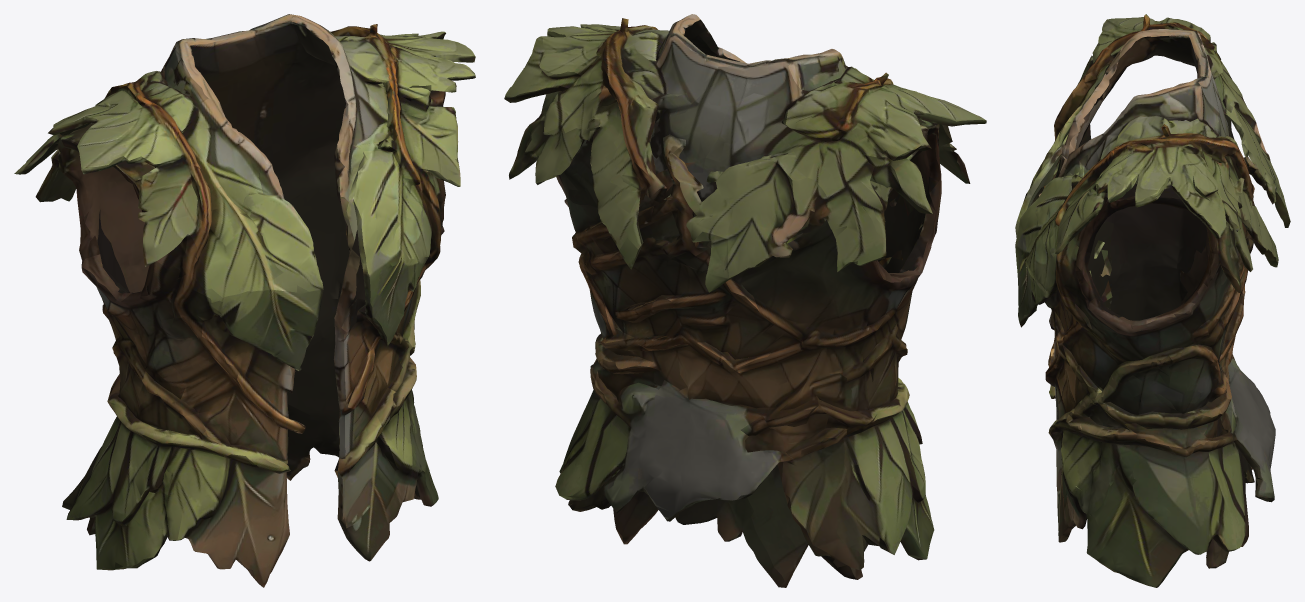
File: item_cool_vest.glb
3 renders of one model, left to right at view 1: azimuth 30°, elevation 25°; view 2: azimuth 150°, elevation 25°; view 3: azimuth 270°, elevation 25°, orthographic. The views are drawn at different scales.
Visible parts, largest first — view 1: item_cool_vest; view 2: item_cool_vest; view 3: item_cool_vest.
Part boxes in pixels (bbox=[...]): item_cool_vest: bbox=[14, 14, 475, 587]; item_cool_vest: bbox=[504, 14, 986, 587]; item_cool_vest: bbox=[1015, 14, 1290, 587].
Bounding box in the file's own units: 0.4854 × 0.55 × 0.2973.
Materials: 1 (1 with a texture image).
